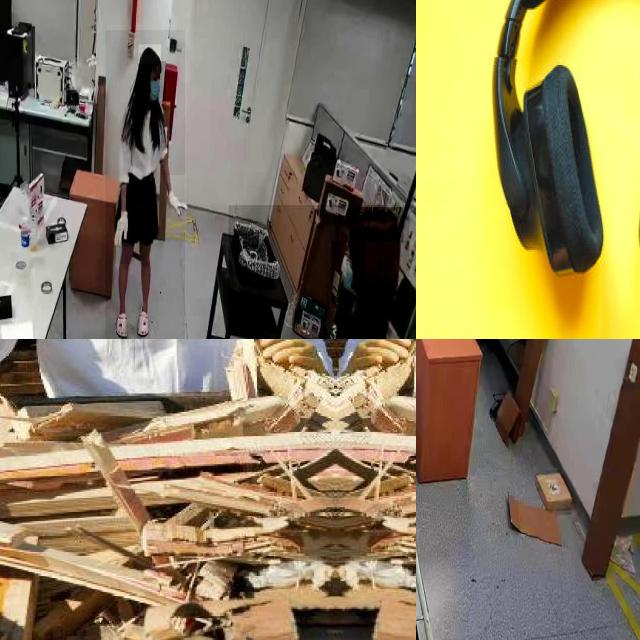Ear-protection: (478, 0, 613, 287)
face_mask: (331, 241, 365, 308), (144, 61, 166, 110)
hand_glove: (343, 339, 416, 380), (251, 339, 328, 373), (113, 202, 135, 264), (165, 175, 187, 234)
head_nohelmet: (349, 207, 404, 243), (138, 44, 162, 65)
person: (0, 339, 312, 435), (105, 30, 185, 339), (228, 205, 409, 339)
